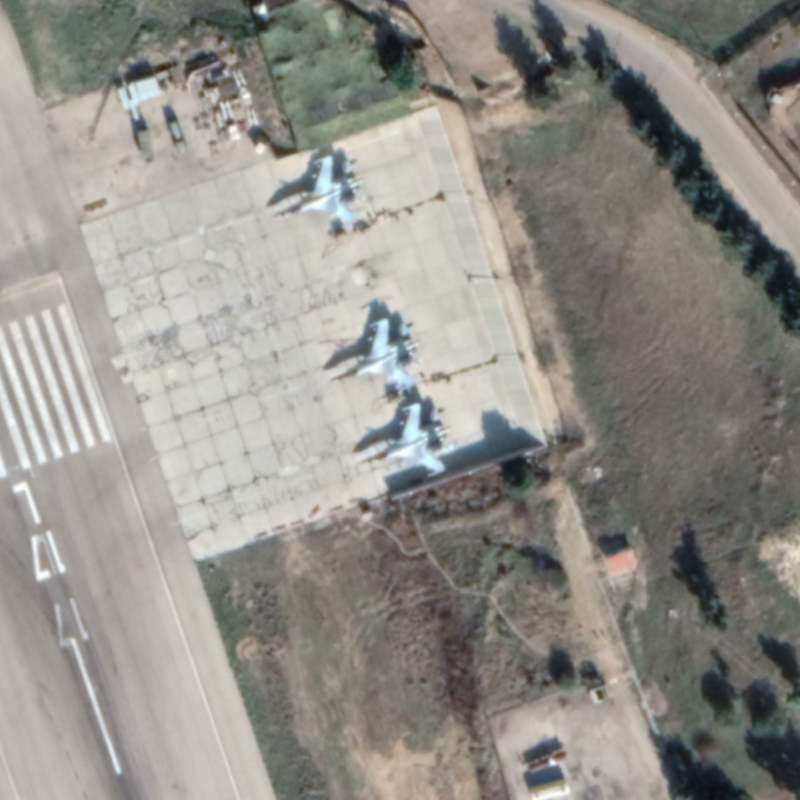A1: (354, 400, 455, 481), (272, 152, 368, 230), (329, 314, 423, 391)
